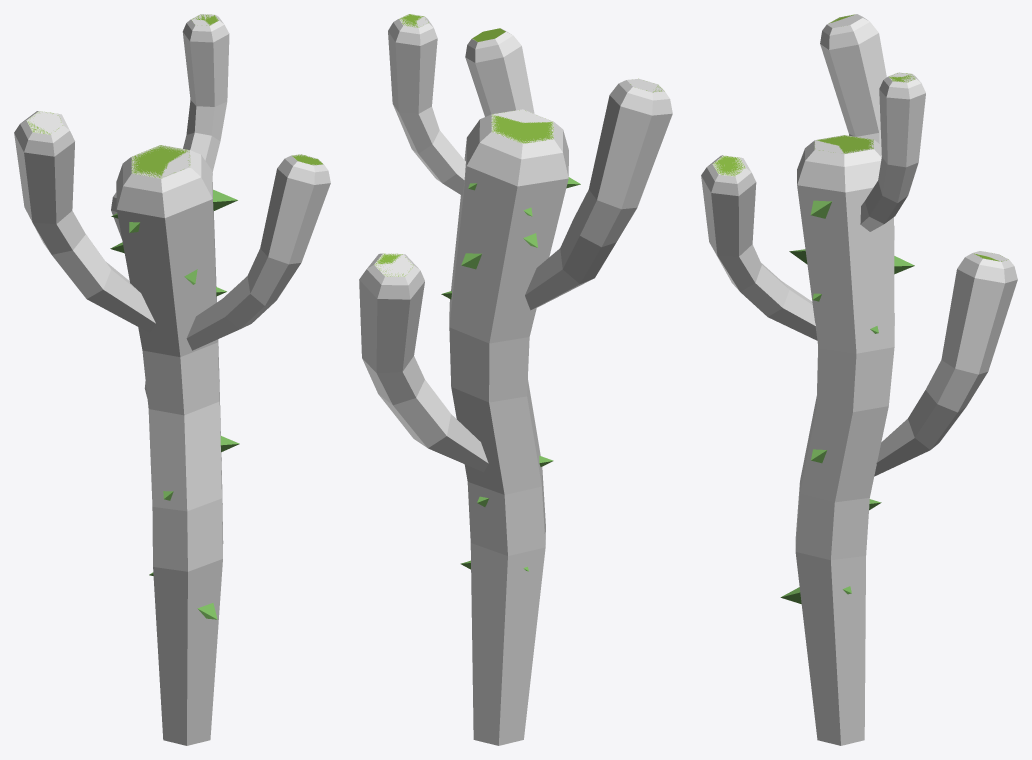
Rendered from model_tree_cactus.fbx.
3 views of the same model, side by side, from view 1: azimuth 30°, elevation 25°; view 2: azimuth 150°, elevation 25°; view 3: azimuth 270°, elevation 25° (orthographic). The views are drawn at different scales.
Parts seen in each view (by area): view 1: model_tree_cactus_col, model_tree_cactus; view 2: model_tree_cactus_col, model_tree_cactus; view 3: model_tree_cactus_col, model_tree_cactus.
Boxes of the visible parts, left/top/right/bottom form: model_tree_cactus_col: left=14, top=14, right=330, bottom=745; model_tree_cactus: left=28, top=14, right=322, bottom=619; model_tree_cactus_col: left=359, top=14, right=672, bottom=745; model_tree_cactus: left=374, top=14, right=664, bottom=571; model_tree_cactus_col: left=701, top=14, right=1017, bottom=745; model_tree_cactus: left=713, top=14, right=1008, bottom=603.
Size of the model in its own units: 190 by 502 by 212.
Materials: 2 (1 with a texture image).
